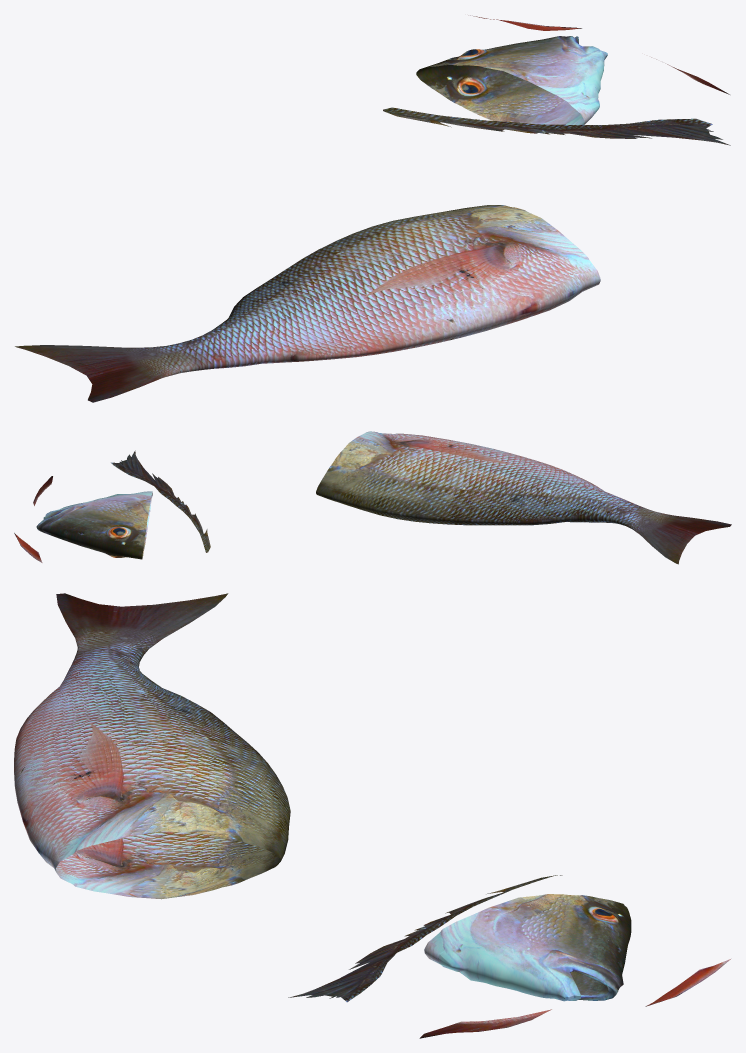
Rendered from Fish_State_2.fbx.
3 renders of one model, top to bottom at view 1: azimuth 30°, elevation 25°; view 2: azimuth 150°, elevation 25°; view 3: azimuth 270°, elevation 25°, orthographic. The views are drawn at different scales.
Parts seen in each view (by area): view 1: Body, Head, Fins; view 2: Body, Head, Fins; view 3: Body, Head, Fins.
Boxes of the visible parts, x1=… form: Body: x1=15, y1=205, x2=600, y2=402; Head: x1=416, y1=36, x2=607, y2=124; Fins: x1=383, y1=15, x2=730, y2=145; Body: x1=316, y1=431, x2=731, y2=564; Head: x1=36, y1=491, x2=152, y2=559; Fins: x1=14, y1=450, x2=210, y2=562; Body: x1=14, y1=593, x2=290, y2=899; Head: x1=424, y1=894, x2=631, y2=1001; Fins: x1=288, y1=875, x2=731, y2=1038.
Size of the model in its own units: 15.06 by 1.23 by 10.46.
